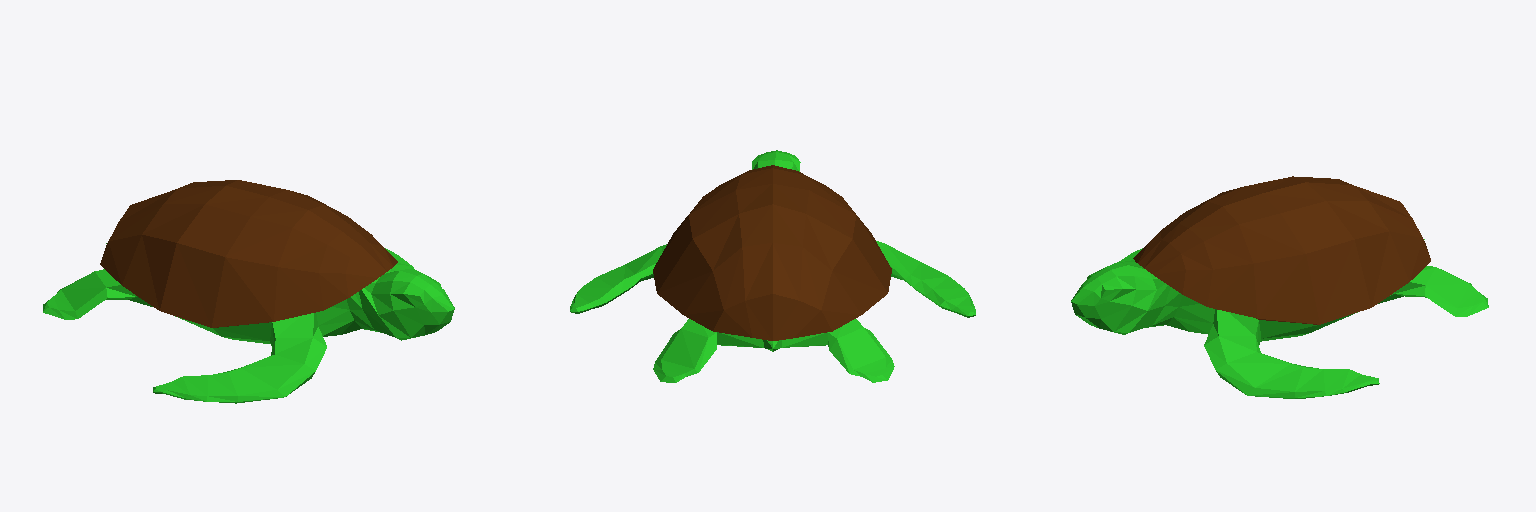
Rendered from Turtle.obj.
The picture shows the model from 3 angles: view 1: azimuth 30°, elevation 25°; view 2: azimuth 150°, elevation 25°; view 3: azimuth 270°, elevation 25°; orthographic projection.
Visible parts, largest first — view 1: Turtle_TurtleMesh; view 2: Turtle_TurtleMesh; view 3: Turtle_TurtleMesh.
Boxes of the visible parts, x1=… form: Turtle_TurtleMesh: x1=43, y1=180, x2=454, y2=403; Turtle_TurtleMesh: x1=570, y1=150, x2=975, y2=382; Turtle_TurtleMesh: x1=1071, y1=176, x2=1488, y2=398.
Size of the model in its own units: 1.2 by 0.4509 by 1.31.